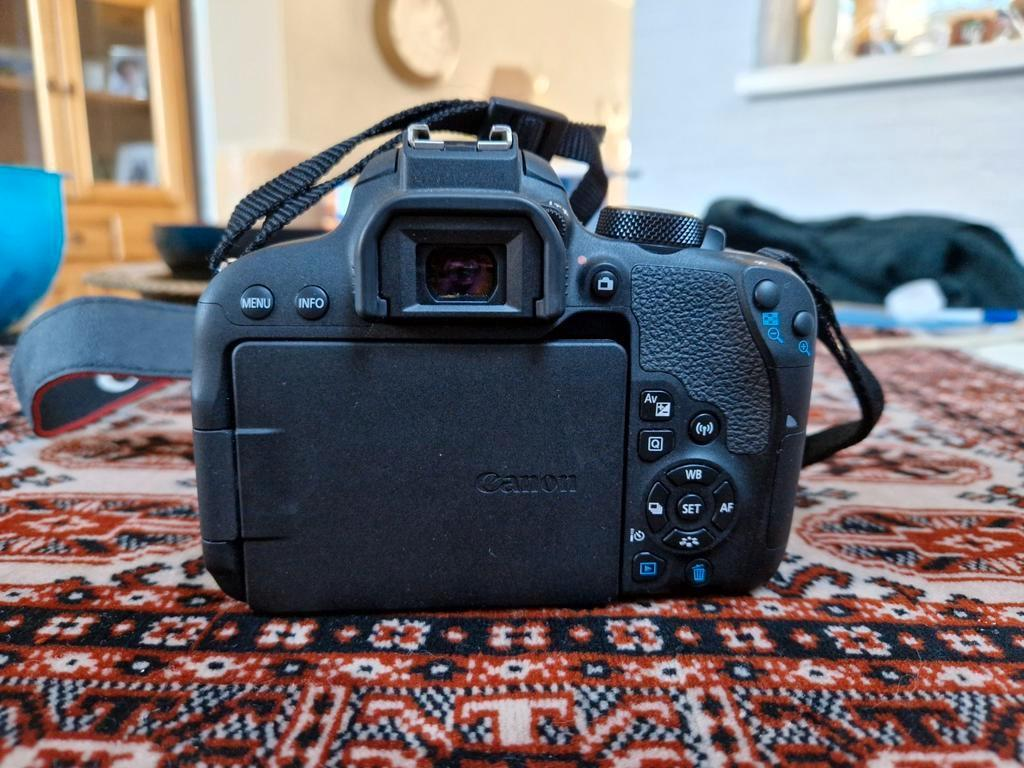camera: (192, 140, 803, 595)
